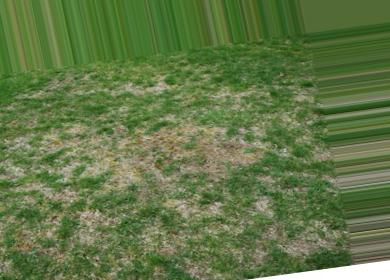patch: (150, 183, 255, 234), (149, 126, 250, 175), (53, 204, 136, 255), (72, 138, 134, 185), (20, 142, 57, 189), (86, 78, 137, 111), (280, 227, 318, 268), (231, 84, 273, 114), (150, 80, 196, 100), (262, 191, 287, 219)
